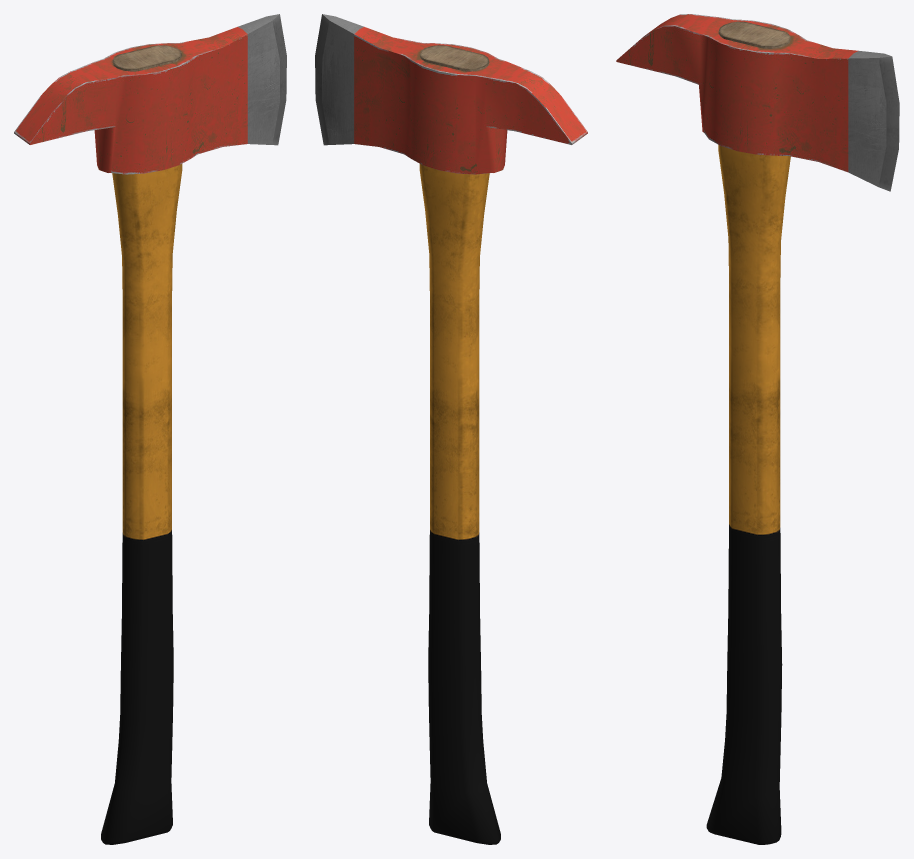
Rendered from cc0-melee-weapons-pack-glb--fireaxe.glb.
The picture shows the model from 3 angles, left to right: view 1: azimuth 30°, elevation 25°; view 2: azimuth 150°, elevation 25°; view 3: azimuth 330°, elevation 25°; orthographic projection. The views are drawn at different scales.
Visible parts, largest first — view 1: FireAxe; view 2: FireAxe; view 3: FireAxe.
Boxes of the visible parts, x1,y1,x2,y2 form: FireAxe: (14, 14, 286, 844); FireAxe: (315, 14, 587, 844); FireAxe: (616, 14, 899, 844).
Size of the model in its own units: 0.2112 by 0.6003 by 0.0452.
1 material, 1 textured.
